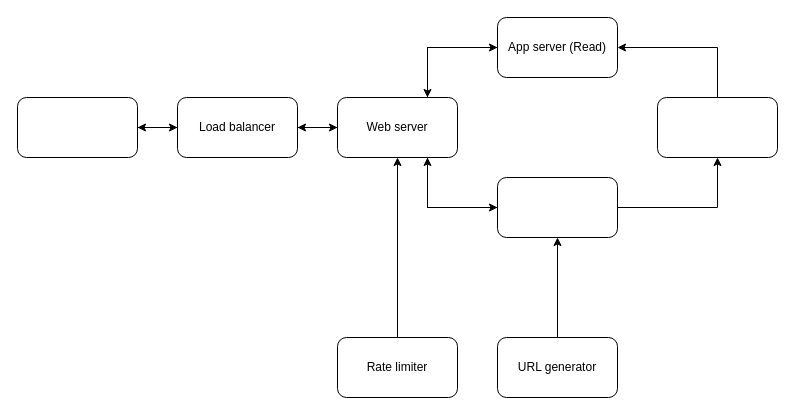
This 795x415 diagram has some shape labels left out. Here are the shapes that lost their labels. From the top down, the centre of each, then its label:
At (x=77, y=127): "User".
At (x=717, y=127): "DB".
At (x=557, y=207): "App server (Write)".
